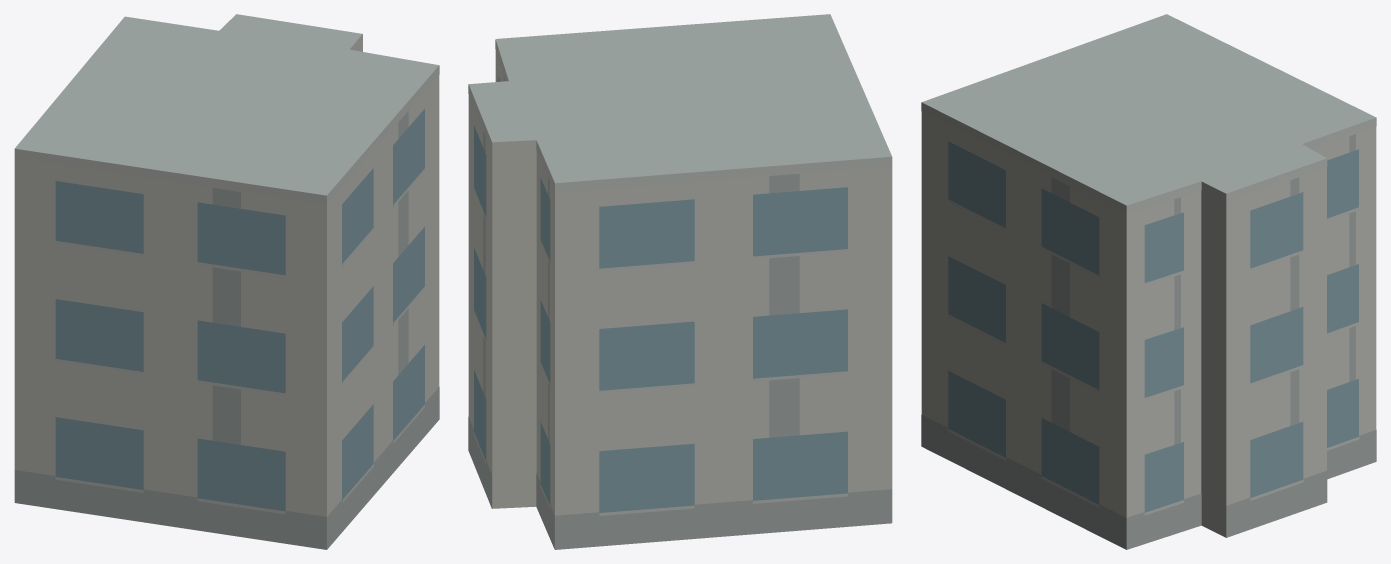
Rendered from survey-upis-32993129.glb.
3 renders of one model, left to right at view 1: azimuth 30°, elevation 25°; view 2: azimuth 150°, elevation 25°; view 3: azimuth 270°, elevation 25°, orthographic. The views are drawn at different scales.
Parts seen in each view (by area): view 1: survey-upis-32993129.tmp; view 2: survey-upis-32993129.tmp; view 3: survey-upis-32993129.tmp.
Part boxes in pixels (x1,y1,x2,y2): survey-upis-32993129.tmp: (14,14,439,549); survey-upis-32993129.tmp: (468,14,892,549); survey-upis-32993129.tmp: (921,14,1376,549).
Size of the model in its own units: 10.93 by 9.15 by 10.97.
